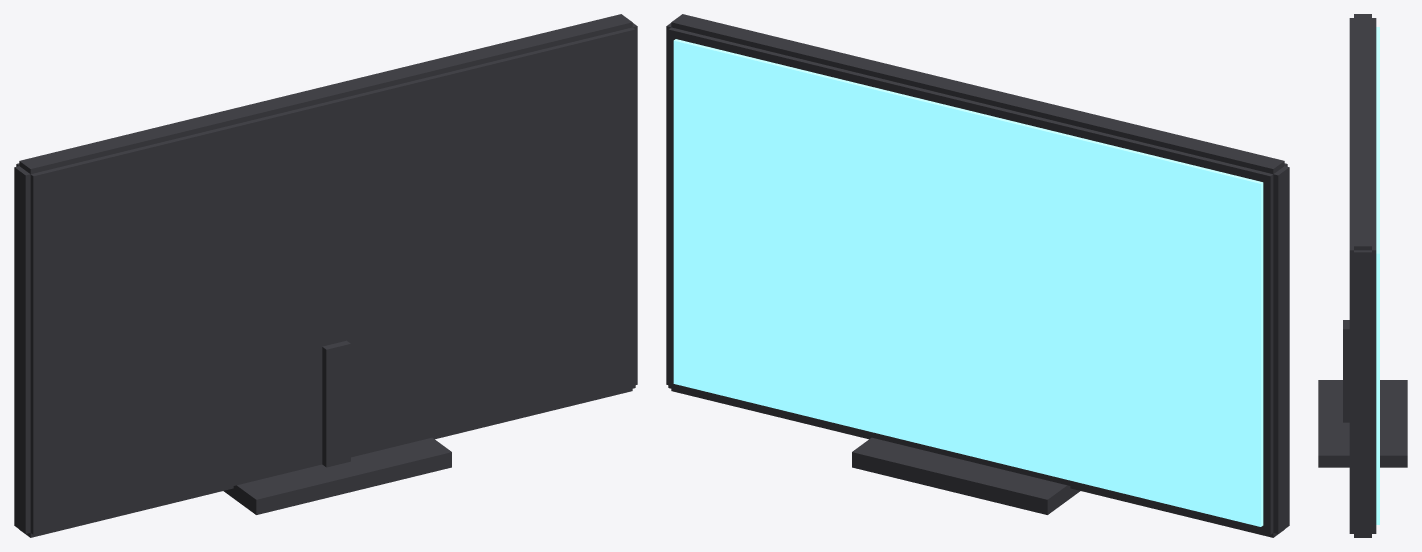
Rendered from tv_flat.glb.
3 renders of one model, left to right at view 1: azimuth 30°, elevation 25°; view 2: azimuth 150°, elevation 25°; view 3: azimuth 270°, elevation 25°, orthographic. The views are drawn at different scales.
Visible parts, largest first — view 1: tv_flat; view 2: tv_flat; view 3: tv_flat.
Boxes of the visible parts, x1=… form: tv_flat: x1=14, y1=14, x2=637, y2=537; tv_flat: x1=666, y1=14, x2=1289, y2=537; tv_flat: x1=1318, y1=14, x2=1407, y2=537.
Bounding box in the file's own units: 1.25 × 0.76 × 0.2.
